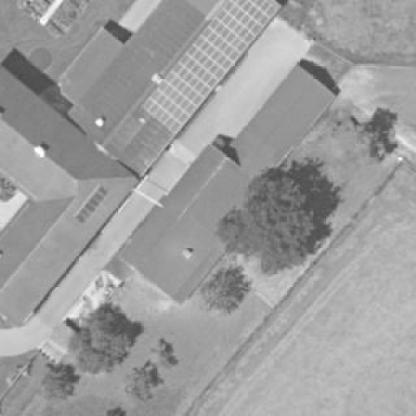solar-pv-panel: (141, 0, 283, 136), (75, 184, 111, 225)
